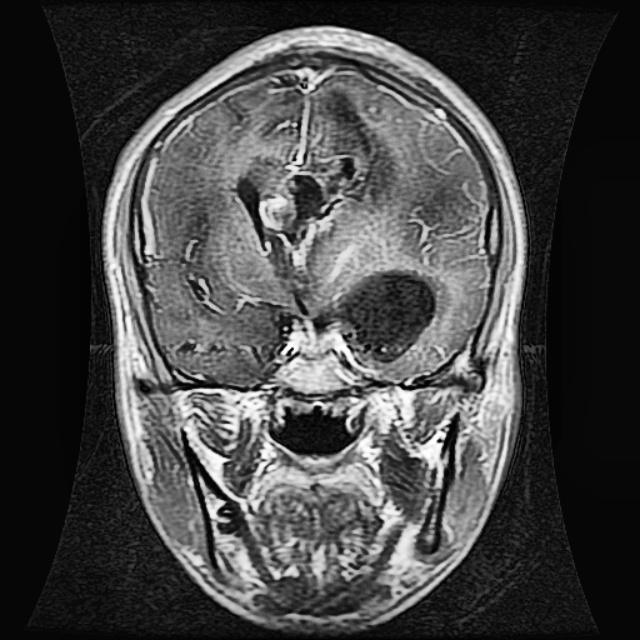Meningioma: (235, 144, 362, 274)
